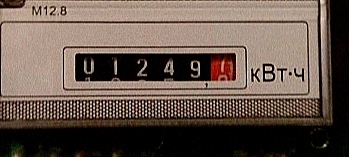0: (81, 56, 95, 76)
1: (108, 56, 120, 77)
2: (133, 57, 149, 79)
4: (162, 57, 175, 77)
7: (216, 54, 229, 74)
9: (188, 59, 201, 80)
screen: (59, 43, 250, 93)
